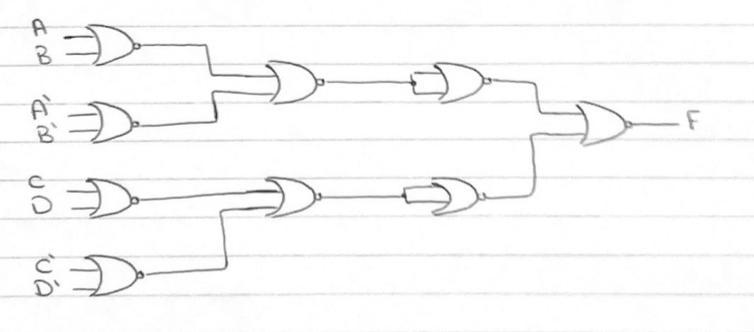NOR: (258, 48, 335, 115), (570, 92, 643, 153), (78, 246, 152, 304), (428, 49, 499, 109), (79, 15, 145, 74), (255, 171, 328, 224), (85, 91, 150, 149), (422, 168, 491, 220), (82, 168, 143, 225)
